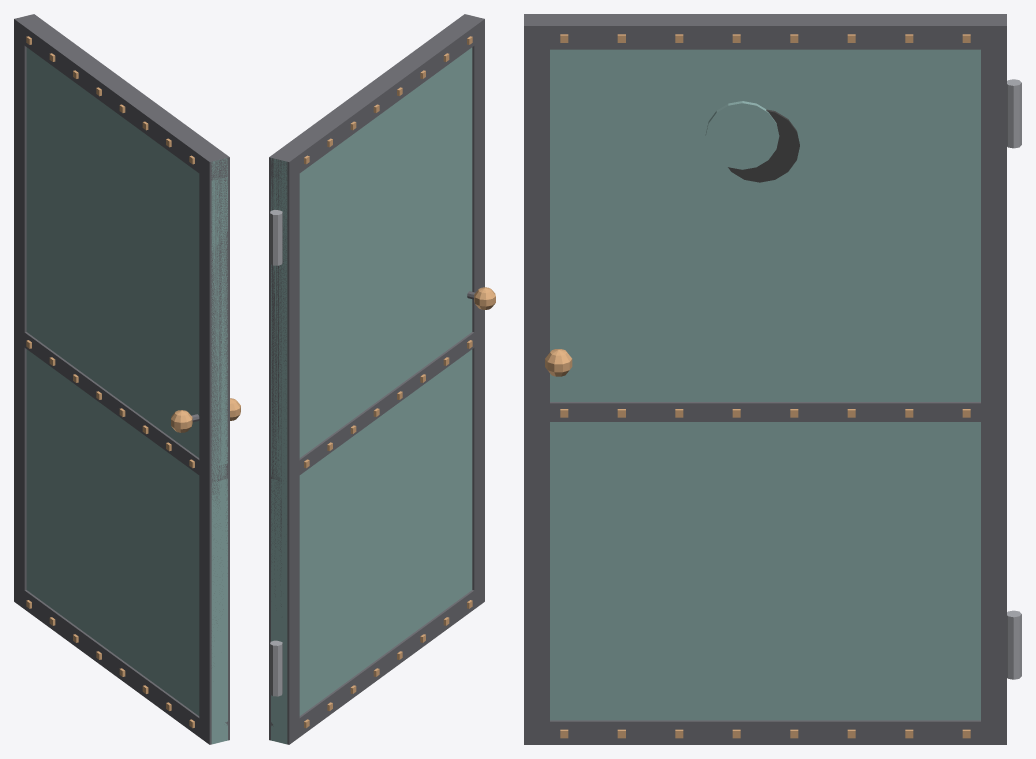
File: toilet_door.glb
The picture shows the model from 3 angles, left to right: view 1: azimuth 30°, elevation 25°; view 2: azimuth 150°, elevation 25°; view 3: azimuth 270°, elevation 25°; orthographic projection. The views are drawn at different scales.
Parts seen in each view (by area): view 1: ToiletDoor; view 2: ToiletDoor; view 3: ToiletDoor.
Part boxes in pixels (bbox=[...]): ToiletDoor: bbox=[14, 14, 240, 744]; ToiletDoor: bbox=[269, 14, 495, 744]; ToiletDoor: bbox=[524, 14, 1021, 744].
Size of the model in its own units: 0.1652 by 1.38 by 0.866.
